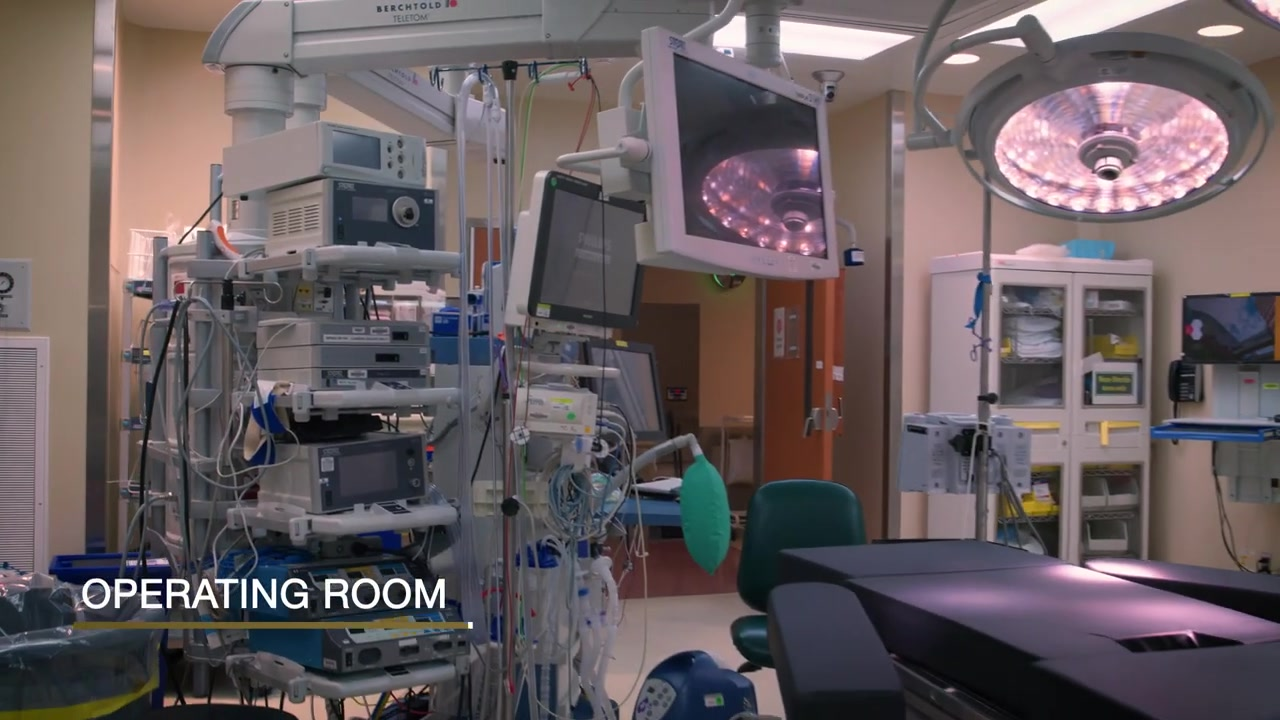bedside_monitor: (632, 23, 845, 287), (492, 164, 657, 339)
cabinet: (927, 251, 1154, 558)
chair: (734, 475, 870, 668)
computer: (579, 338, 672, 448), (1178, 288, 1280, 367)
door_handle: (803, 410, 820, 441), (832, 395, 847, 428)
electrosurgical_unit: (217, 548, 438, 624), (243, 606, 474, 671)
iv_pole: (429, 53, 591, 720), (964, 154, 1020, 540)
keyboard: (1168, 416, 1261, 445)
operating_bed: (737, 529, 1280, 720)
surgical_light: (951, 31, 1274, 224)
telephone: (1168, 358, 1204, 403)
waste_bin: (1, 575, 156, 715)
